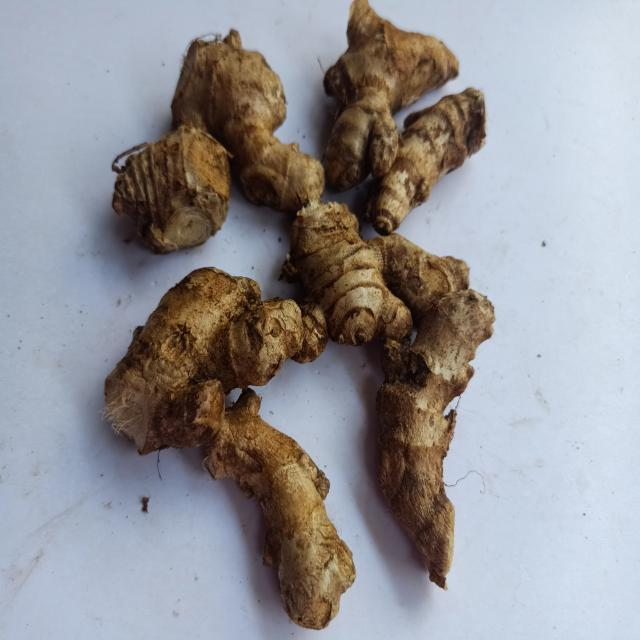Ginger: (104, 267, 327, 455), (203, 388, 356, 630), (376, 289, 496, 588), (171, 29, 324, 210), (282, 201, 470, 345), (324, 0, 459, 189), (366, 87, 486, 234), (112, 125, 230, 253)
